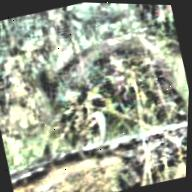boar: (7, 0, 192, 143)
